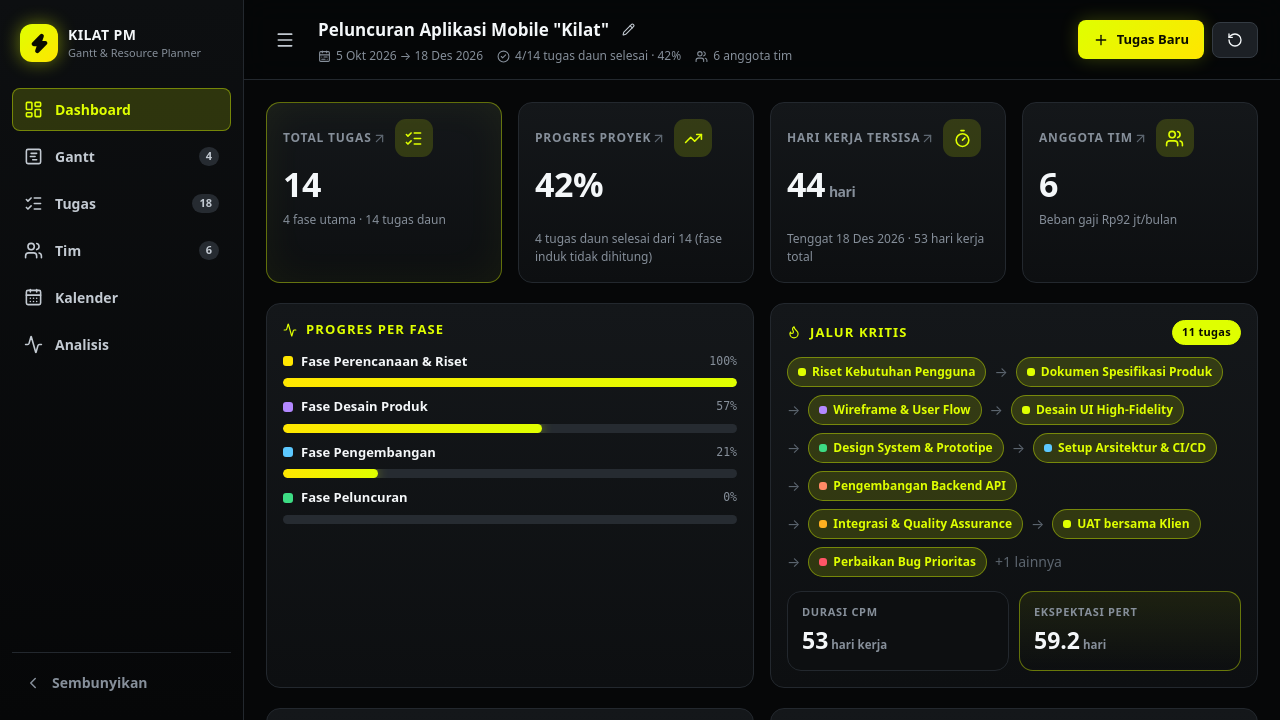
Test case: AnalysisPage — diagram PERT › menjumlahkan Te sepanjang satu rantai kritis berurutan di statistik
Click the button "Analisis".
click(122, 344)  # box [12,323,231,366]
(page scrolled)
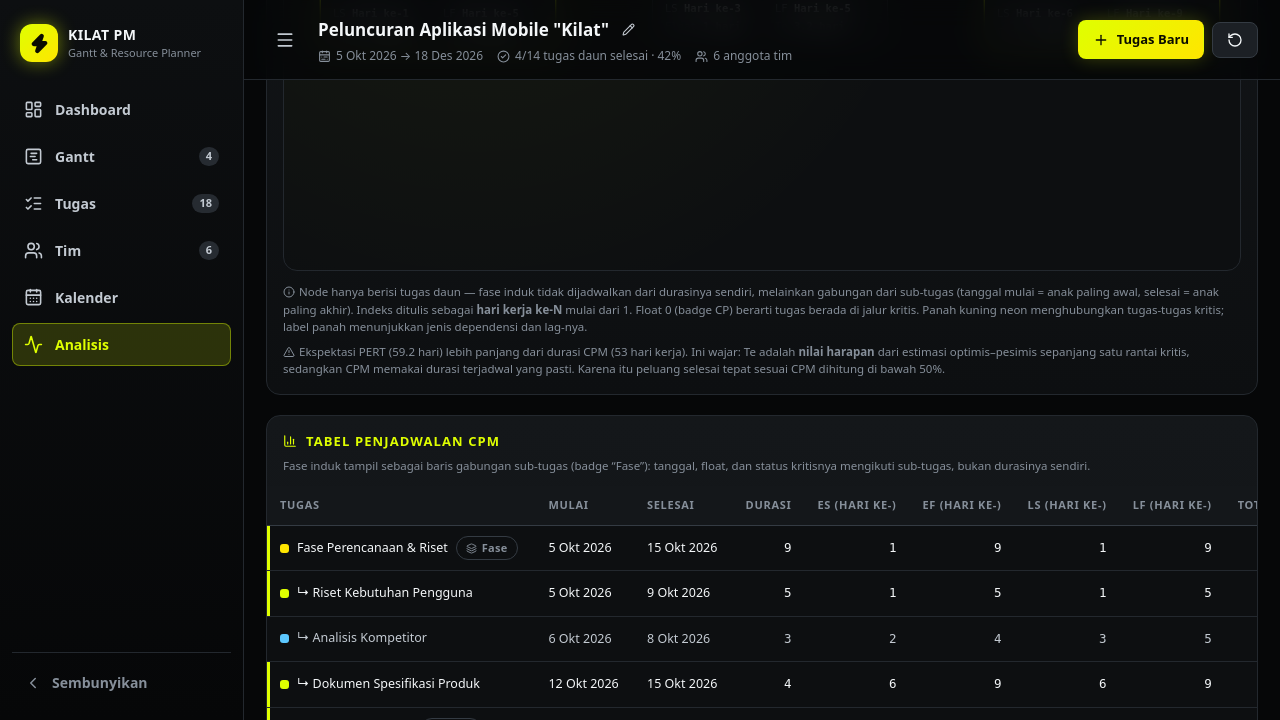
expect the text "lebih panjang dari durasi CPM" is shown: met, box [415,344,614,359]
